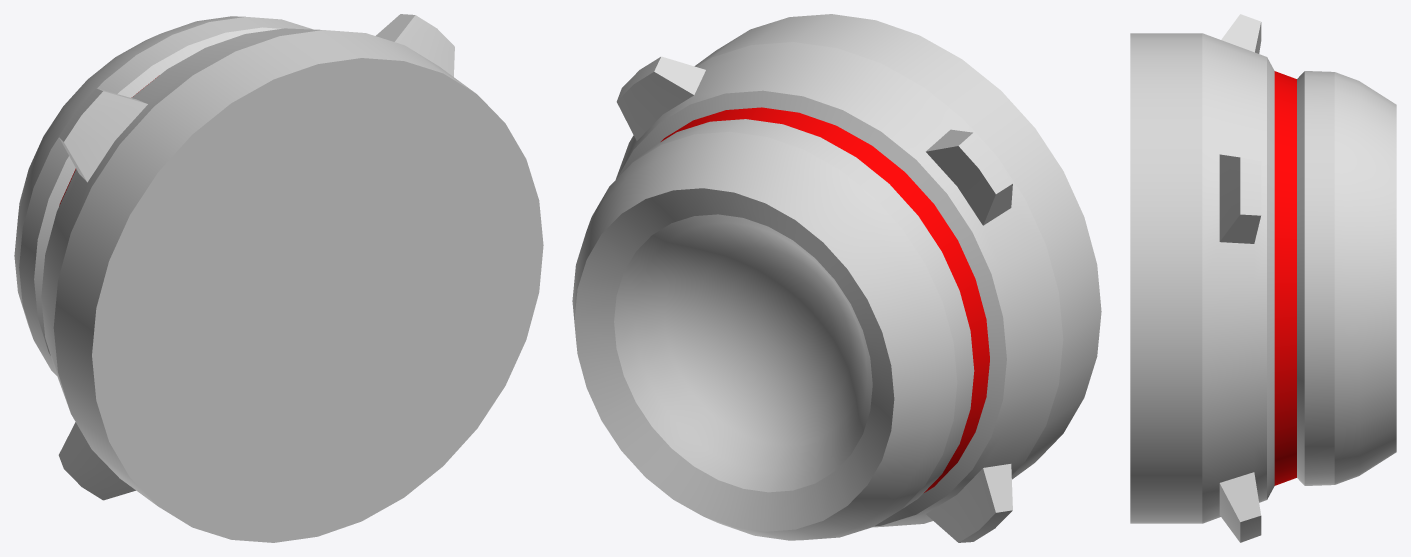
Rendered from LD_CannonBase.fbx.
3 renders of one model, left to right at view 1: azimuth 30°, elevation 25°; view 2: azimuth 150°, elevation 25°; view 3: azimuth 270°, elevation 25°, orthographic. The views are drawn at different scales.
Parts seen in each view (by area): view 1: CannonBase; view 2: CannonBase; view 3: CannonBase.
Boxes of the visible parts, x1,y1,x2,y2 form: CannonBase: (14,14,543,542); CannonBase: (572,14,1101,542); CannonBase: (1130,14,1396,542).
Bounding box in the file's own units: 20 × 20 × 10.84.
